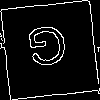G: (25, 24, 71, 76)
